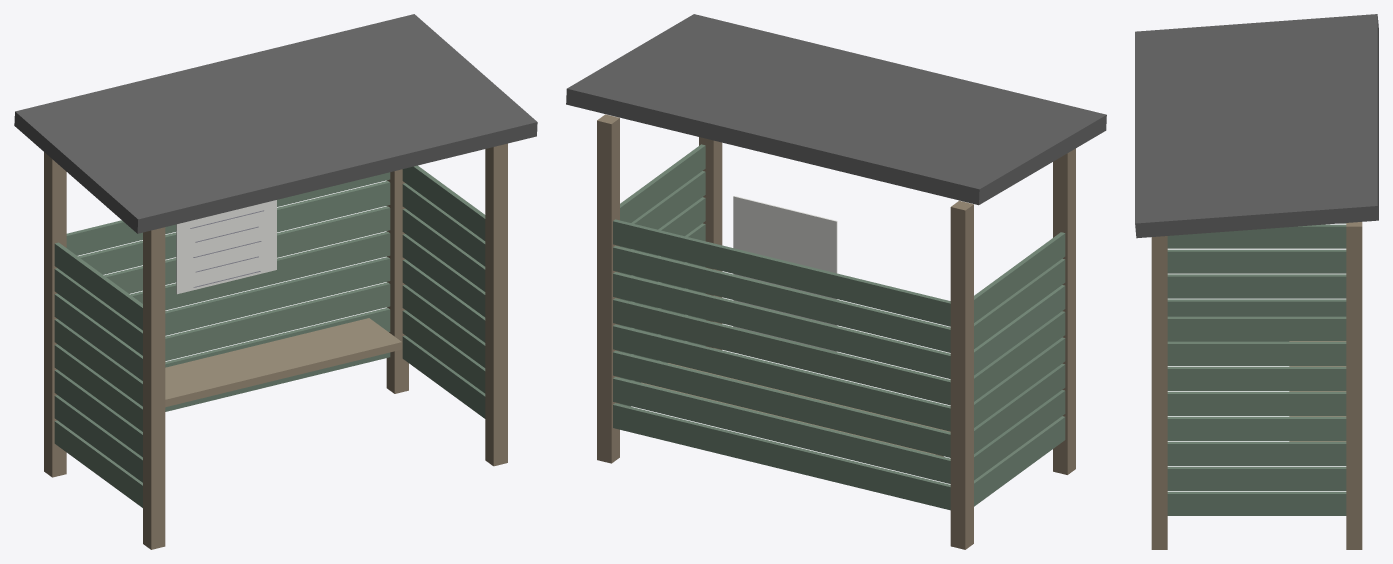
File: town_bus_shelter_a.glb
The picture shows the model from 3 angles, left to right: view 1: azimuth 30°, elevation 25°; view 2: azimuth 150°, elevation 25°; view 3: azimuth 270°, elevation 25°; orthographic projection. The views are drawn at different scales.
Parts seen in each view (by area): view 1: body; view 2: body; view 3: body.
Part boxes in pixels (x1,y1,x2,y2): body: (14, 14, 537, 549); body: (566, 14, 1106, 549); body: (1135, 14, 1378, 549).
Size of what is drawn, in the model's own units: 2.8 by 2.41 by 1.5.
